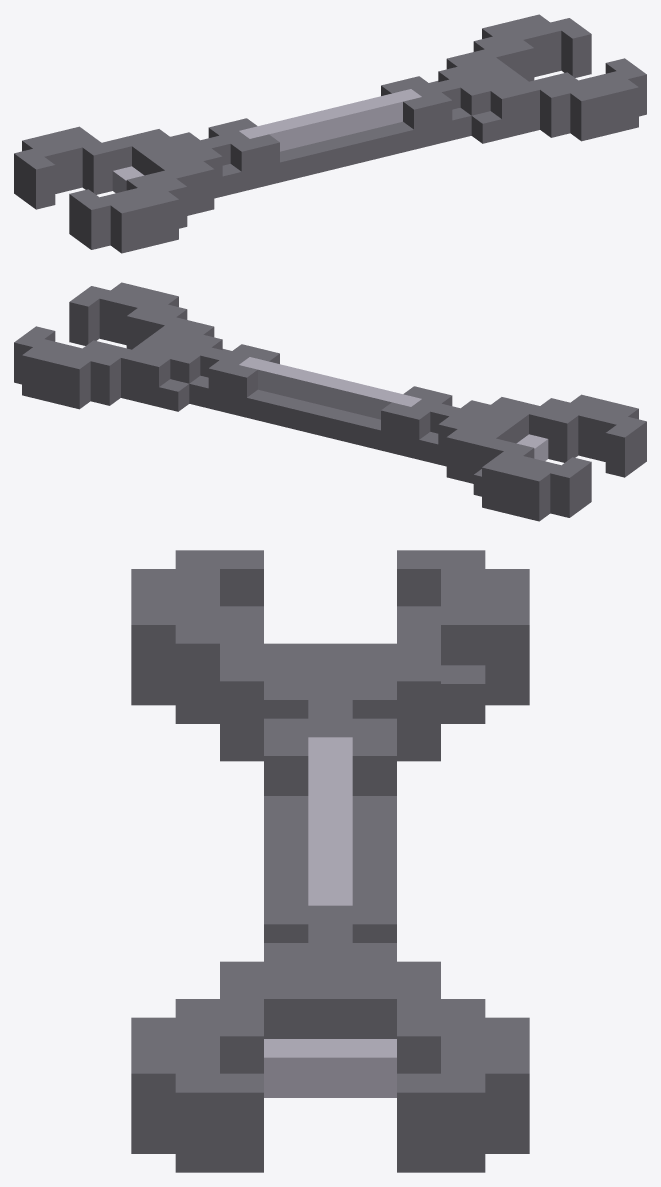
Rendered from cléMolette.obj.
The picture shows the model from 3 angles, top to bottom: view 1: azimuth 30°, elevation 25°; view 2: azimuth 150°, elevation 25°; view 3: azimuth 270°, elevation 25°; orthographic projection. The views are drawn at different scales.
Bounding box in the file's own units: 2.9 × 0.2 × 0.9.
Materials: 1 (1 with a texture image).
